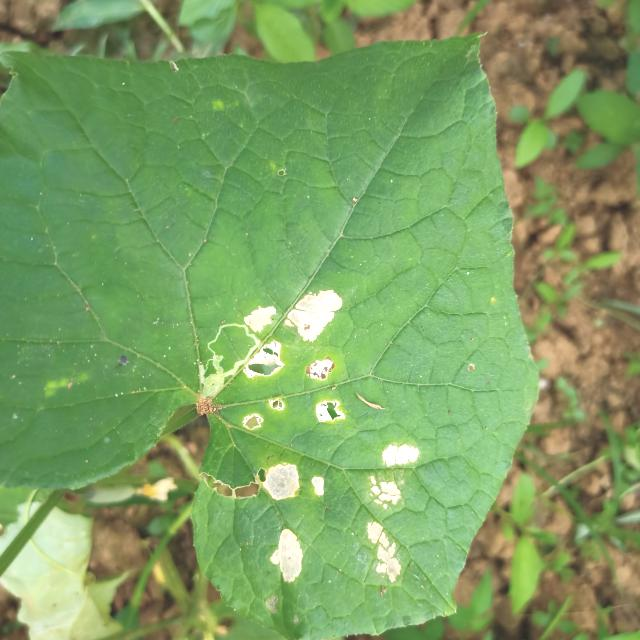disease_cucumber: (242, 290, 344, 581), (366, 443, 419, 584)
